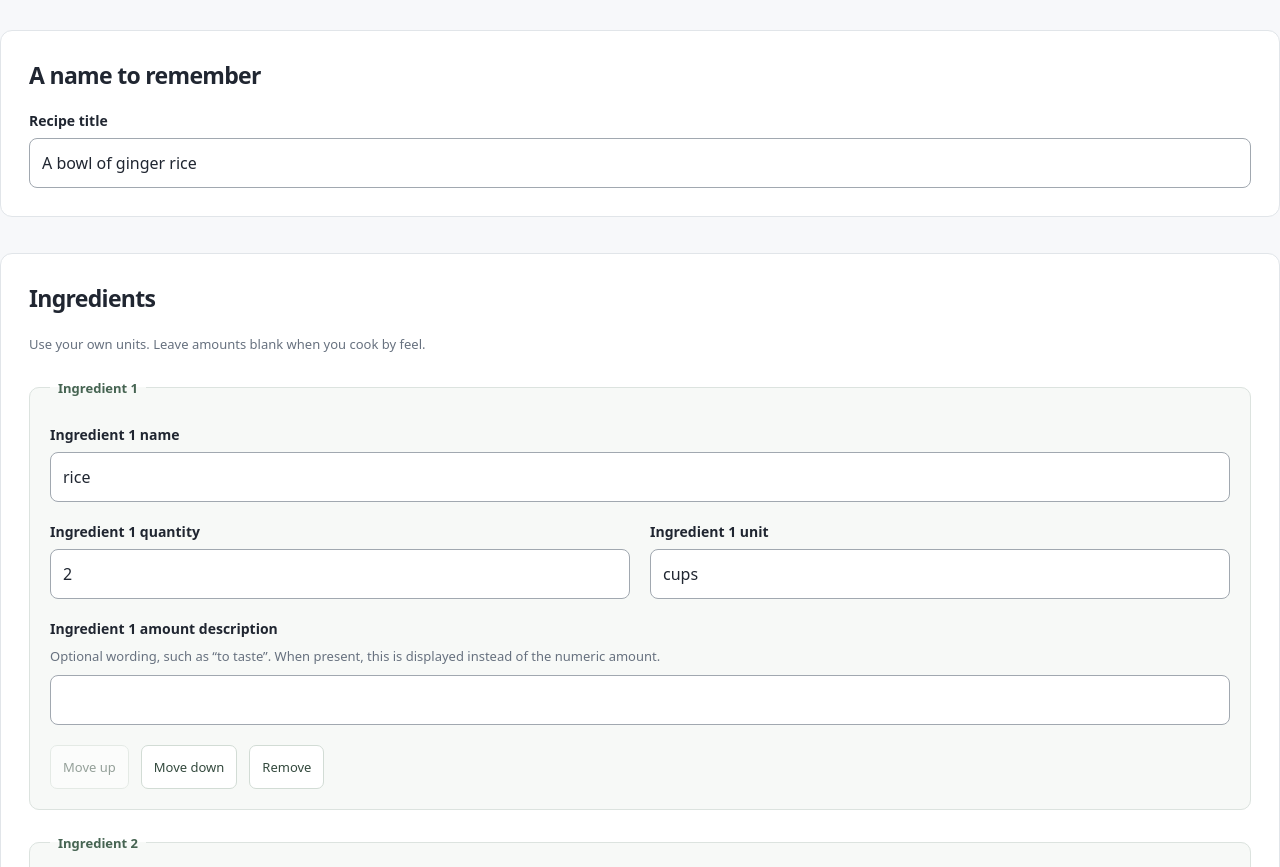
Test case: shows field-level quantity errors and preserves all entered values for correction
The image size is (1280, 867).
Replace the text in the field labelled "Ingredient 1 quantity" with "a few" at (340,574), box [50,549,630,599]
(page scrolled)
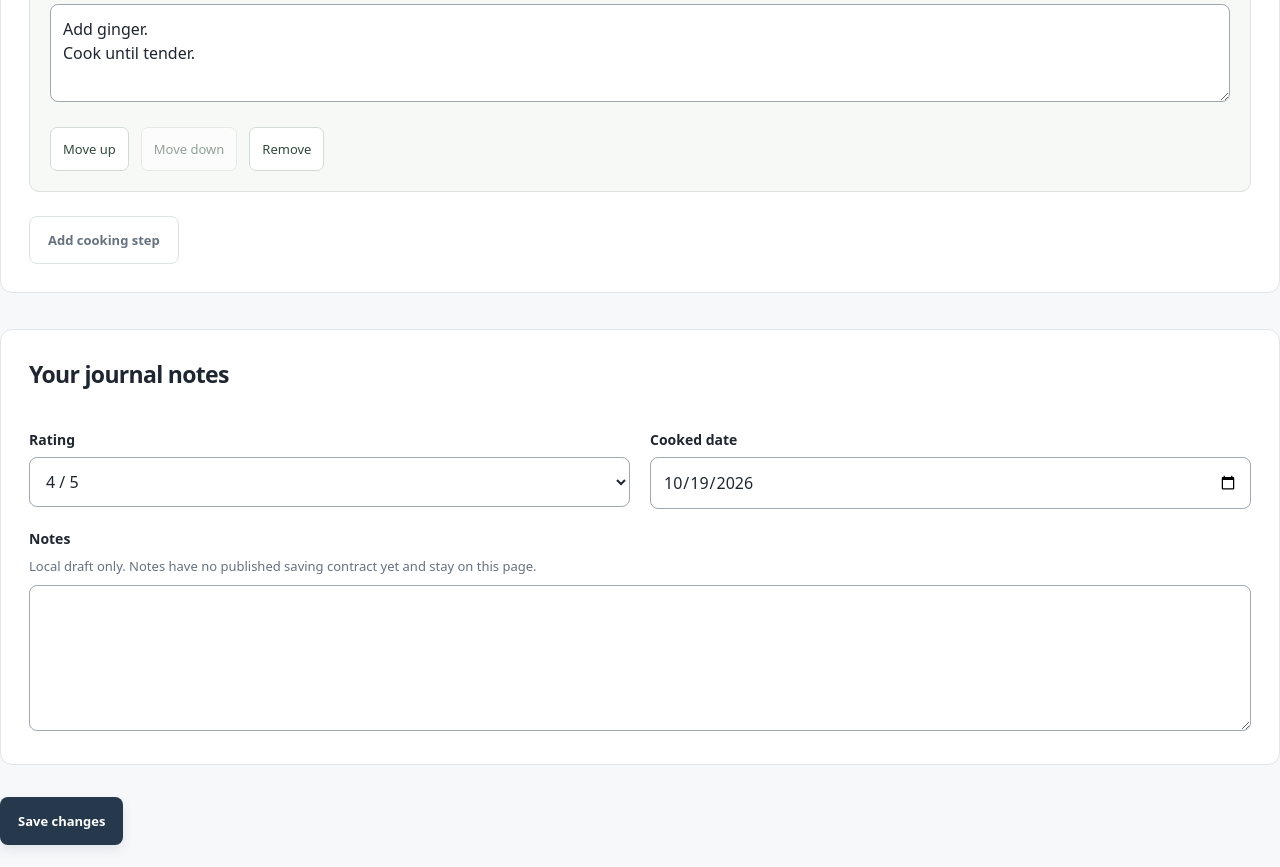
Click the button "Save changes" at (62,821), box [0,797,124,845]
(page scrolled)
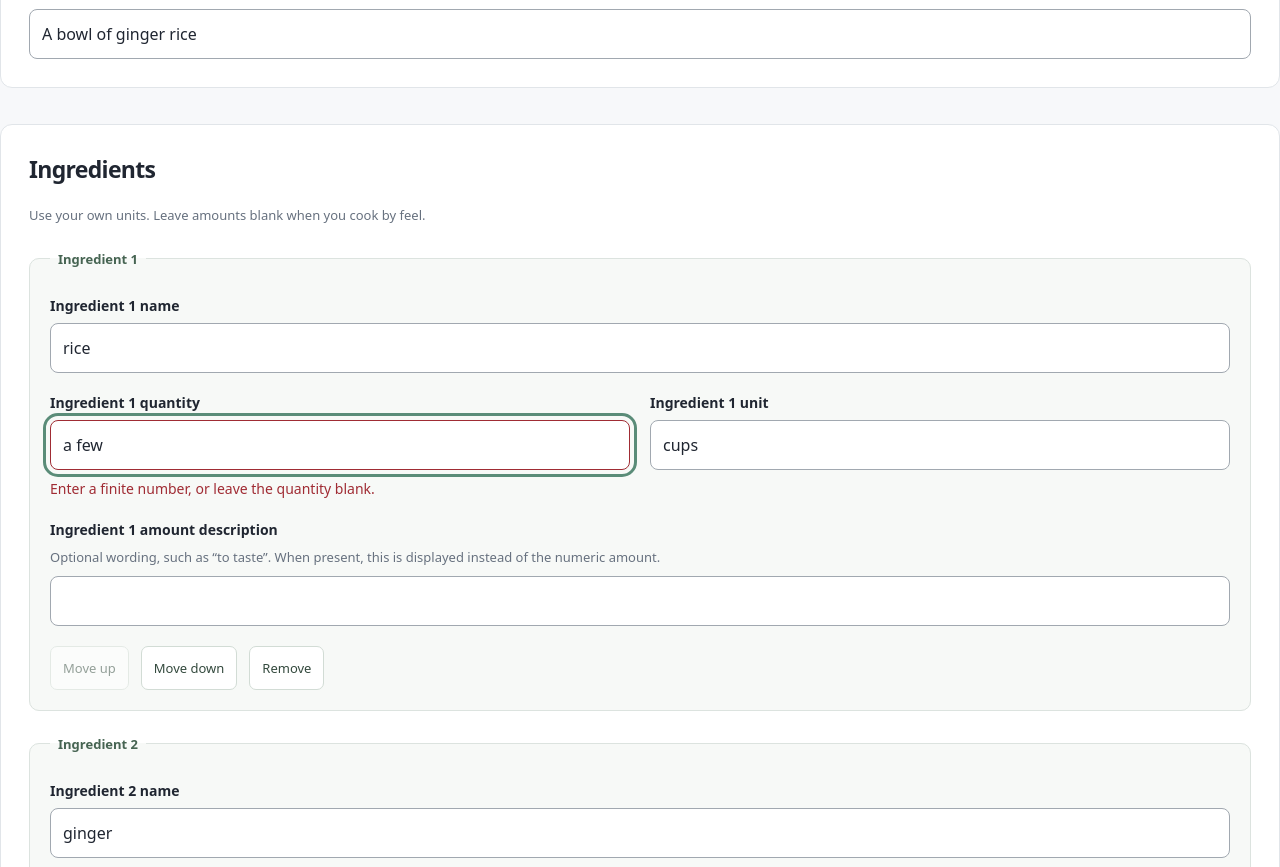
Expected: the text "Enter a finite number, or leave the quantity blank." is shown, [50,479,375,498]
